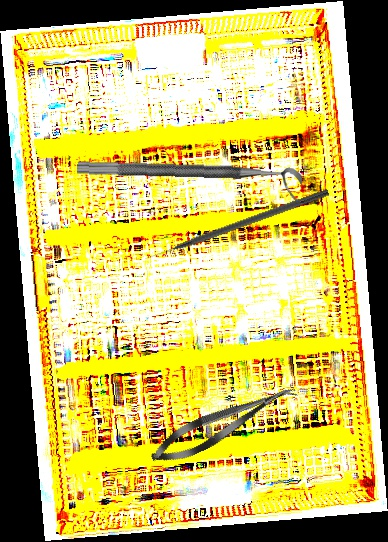Fixation Ring: (76, 160, 303, 201)
Hook Surgical: (143, 186, 330, 264)
Micro Scissor: (145, 374, 302, 473)
